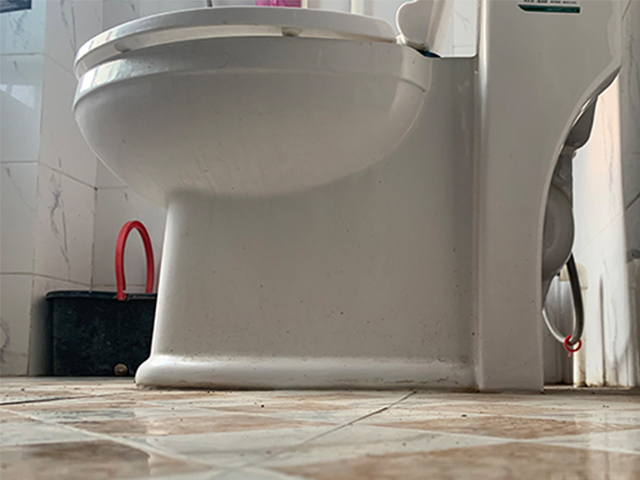closestool: (70, 1, 628, 393)
